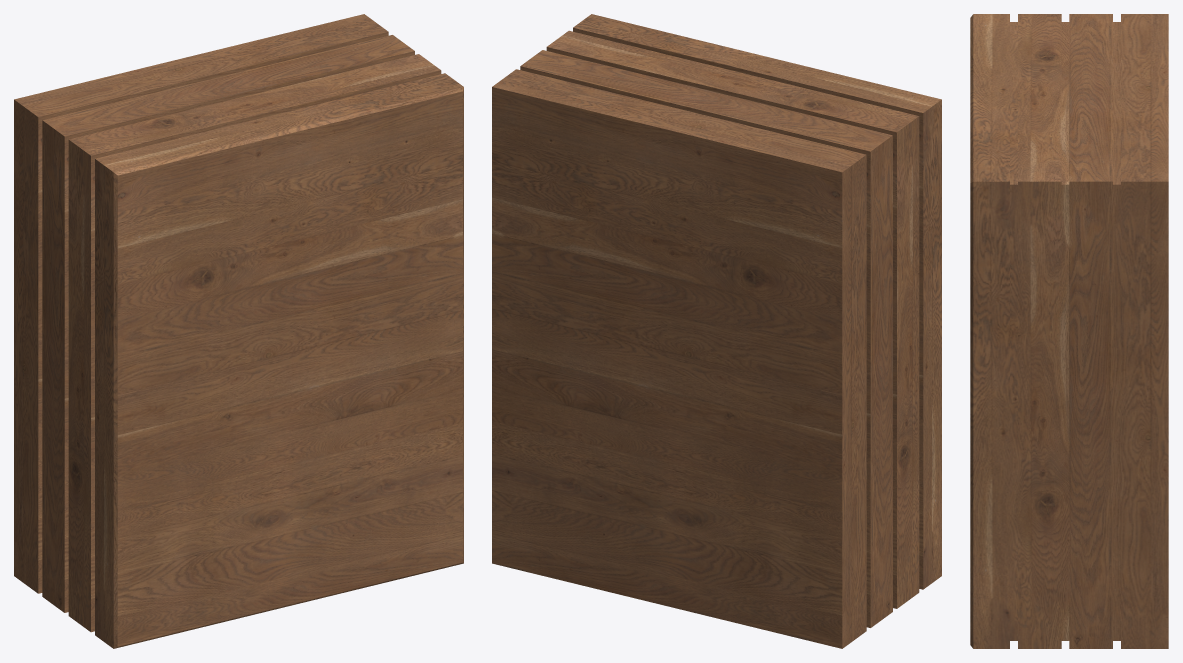
Rendered from ledge_vis.obj.
3 views of the same model, side by side, from view 1: azimuth 30°, elevation 25°; view 2: azimuth 150°, elevation 25°; view 3: azimuth 270°, elevation 25° (orthographic).
Size of the model in its own units: 0.2 by 0.26 by 0.1.
Materials: 1 (1 with a texture image).
